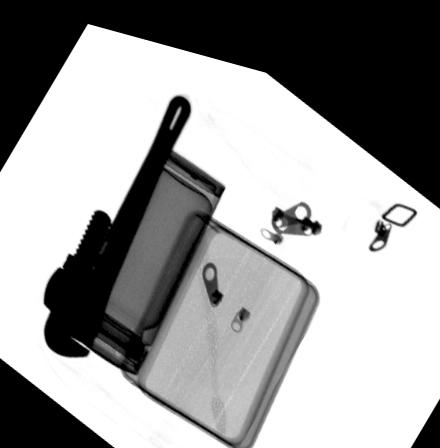Wrench: (40, 84, 191, 355)
